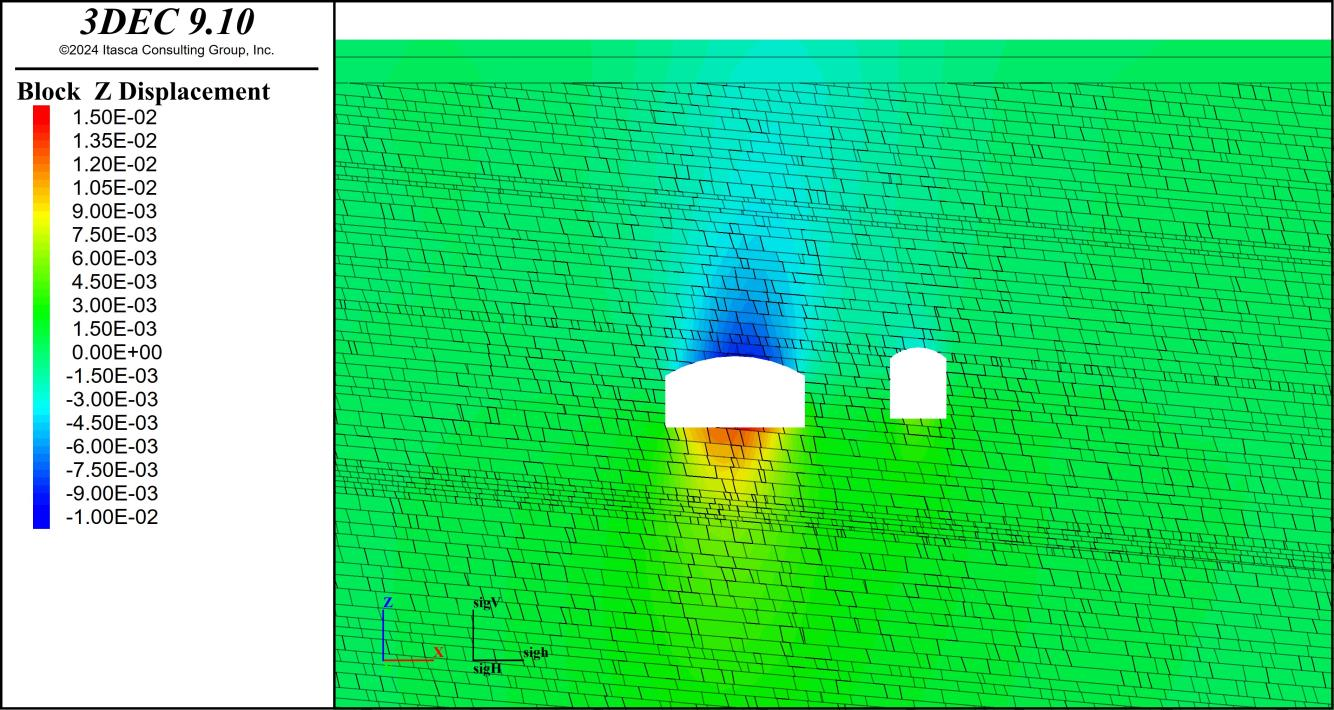crown: (714, 337, 753, 357), (909, 332, 930, 348)
tunnel-opening: (2, 0, 331, 706), (665, 357, 805, 427), (890, 349, 947, 418)
